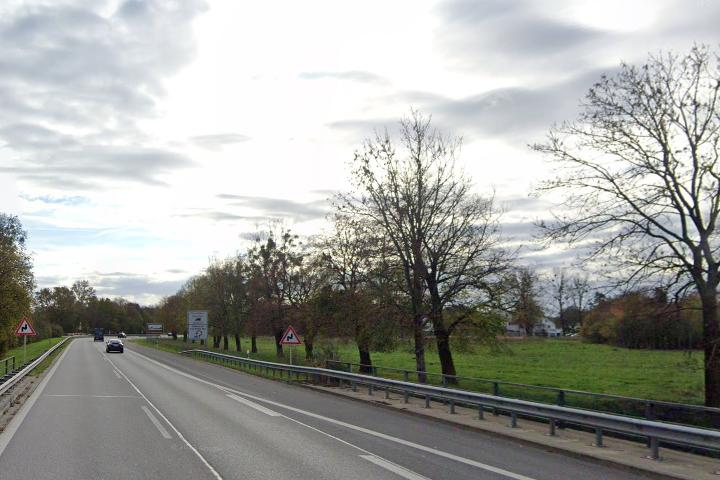traffic_sign: (278, 324, 302, 345), (15, 317, 36, 334)
vehicle: (105, 338, 126, 355)
